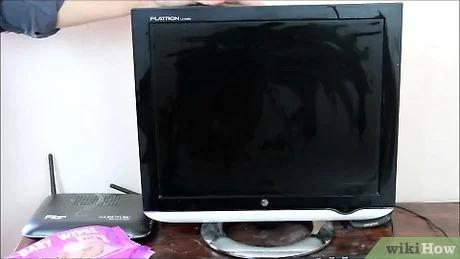monitor: (127, 2, 404, 223)
